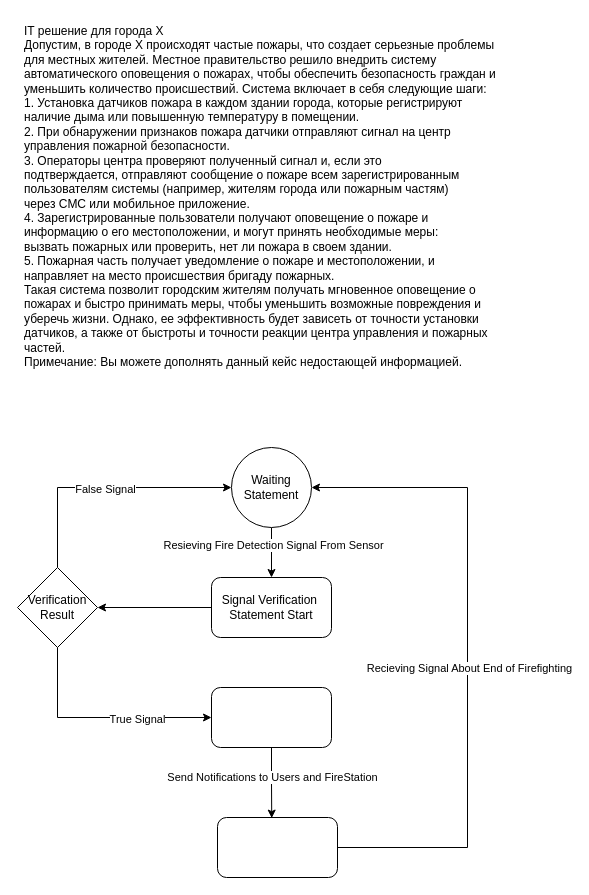
Some shapes in this 589 by 895 pixel diagram are drawn without their labels. Here are the shapes that lost their labels. From the top down, the centre of each, then its label:
At pixel 271 717: "Signal Verification Statement End".
At pixel 277 847: "Waiting for end of firefighting".
